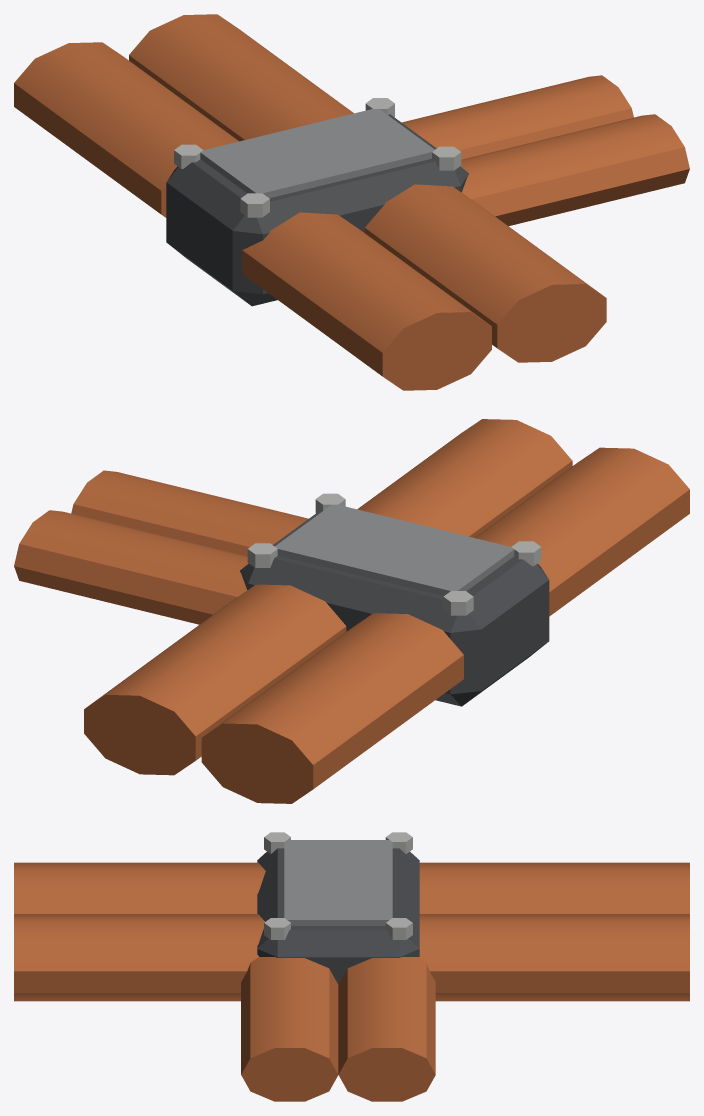
The model's file is heat-pipe-t-right.glb.
The picture shows the model from 3 angles, top to bottom: view 1: azimuth 30°, elevation 25°; view 2: azimuth 150°, elevation 25°; view 3: azimuth 270°, elevation 25°; orthographic projection. The views are drawn at different scales.
Visible parts, largest first — view 1: body; view 2: body; view 3: body.
Part boxes in pixels (left/top/right/bottom): body: left=14, top=14, right=689, bottom=390; body: left=14, top=419, right=689, bottom=803; body: left=14, top=832, right=689, bottom=1101.
Size of the model in its own units: 0.685 by 0.16 by 1.
